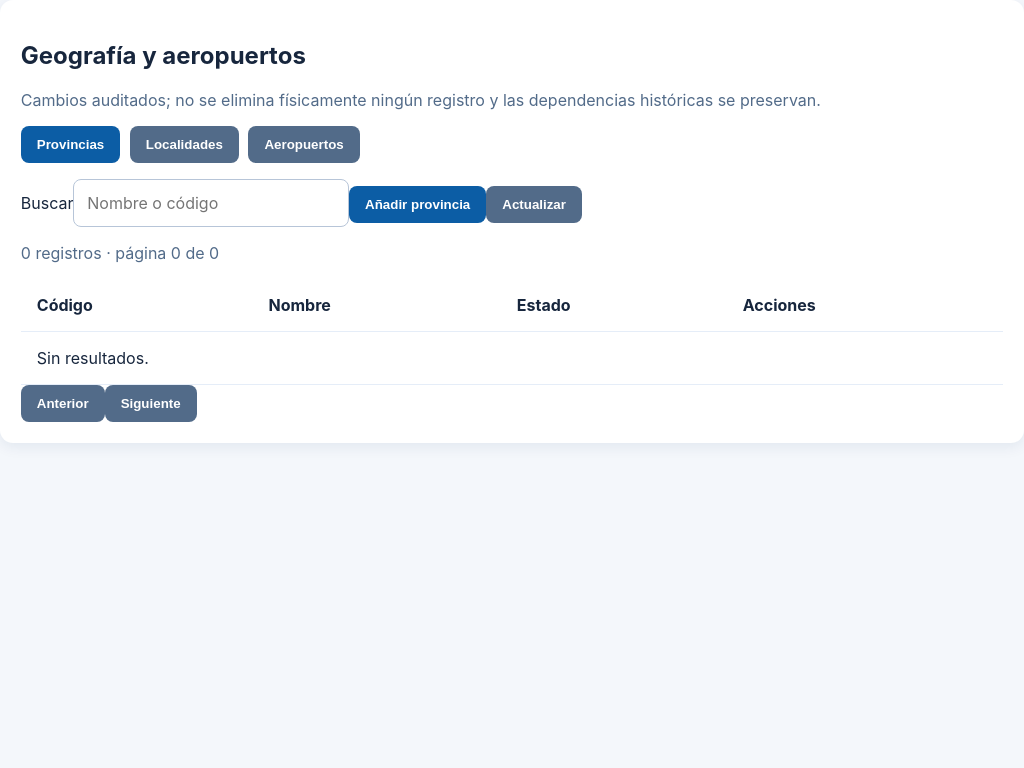
Test: una baja rechazada por el servidor muestra el motivo real, no informa éxito y recarga las dependencias vigentes
This screenshot has width=1024, height=768.
Click the button "Aeropuertos": coordinates (304, 144) x1=248 y1=126 x2=360 y2=163
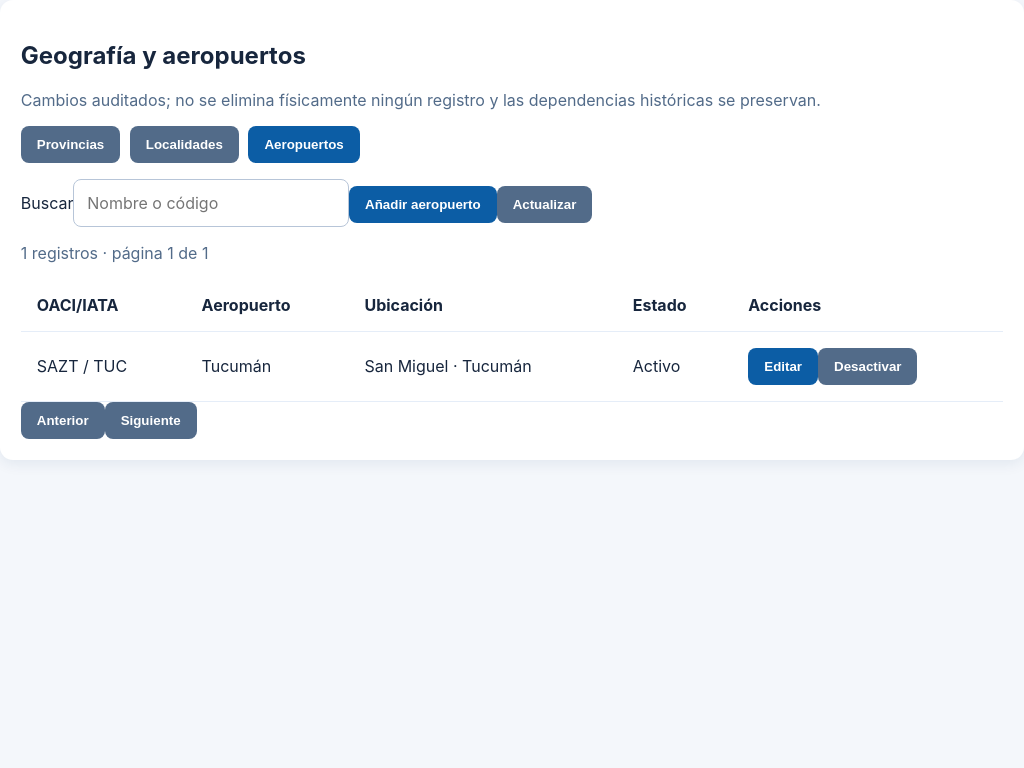
Click the button "Desactivar": coordinates (868, 366) x1=818 y1=348 x2=917 y2=385
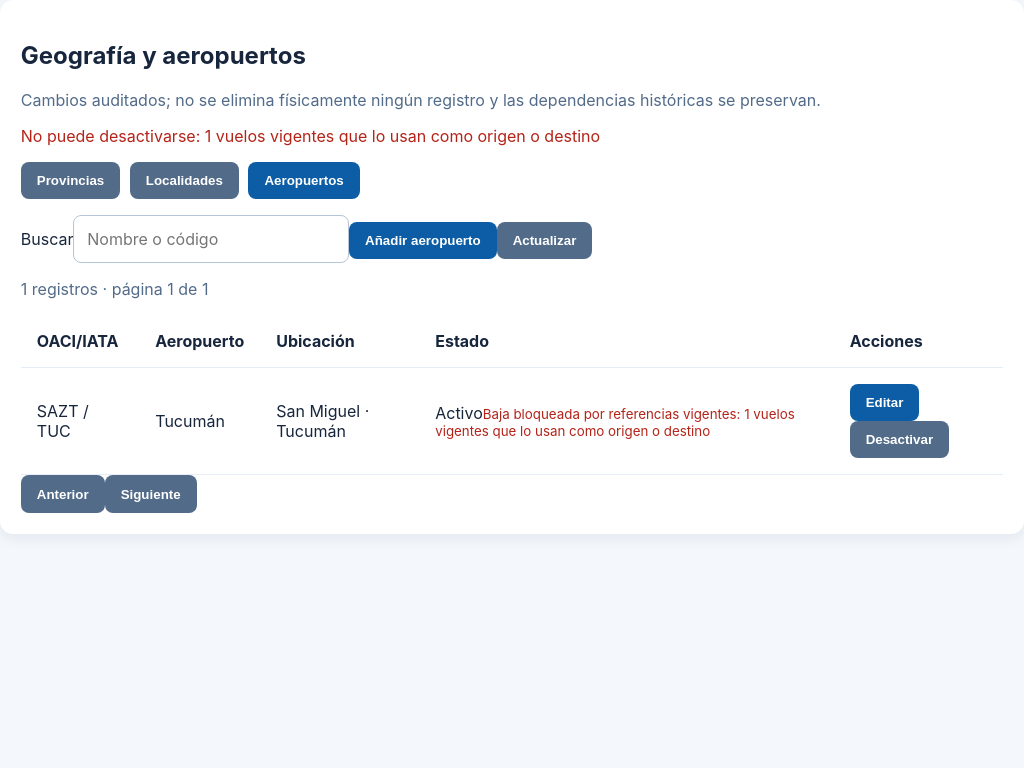
Check: the message shows "1 vuelos vigentes", box x1=21 y1=126 x2=600 y2=146
Check: the button "Desactivar" is disabled, box x1=850 y1=421 x2=949 y2=458
Check: the text with test id "geo-blocked" is shown, box x1=435 y1=406 x2=795 y2=439
